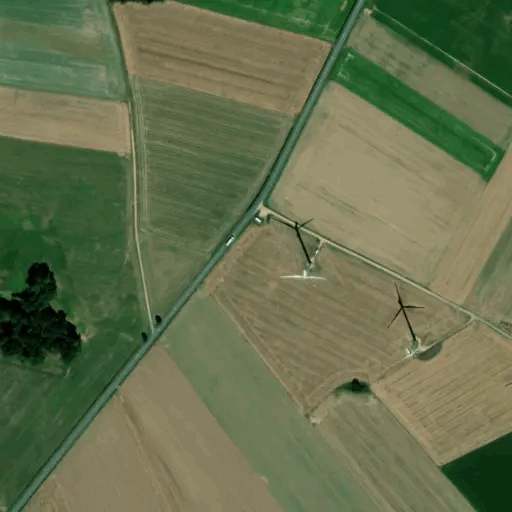wt: (378, 279, 443, 368), (265, 207, 326, 288)
